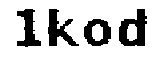1: (12, 7, 44, 49)
d: (118, 5, 150, 52)
k: (47, 5, 80, 52)
o: (83, 17, 115, 48)
